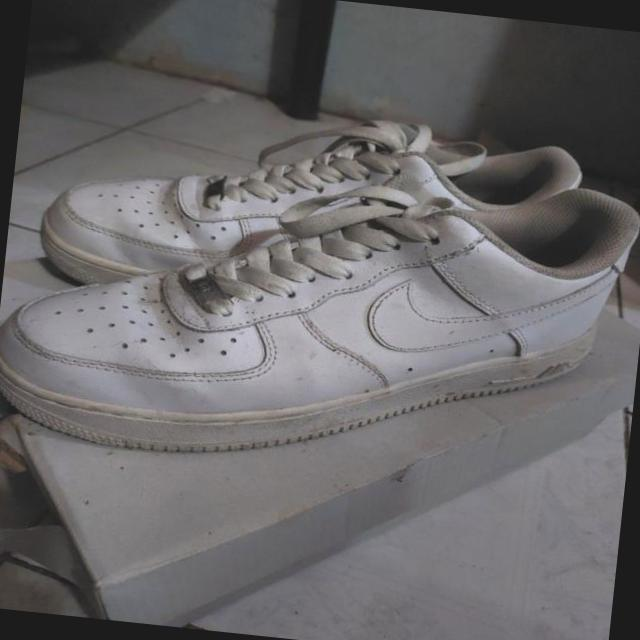nike_original_airforce: (0, 123, 640, 499), (33, 91, 580, 334)
